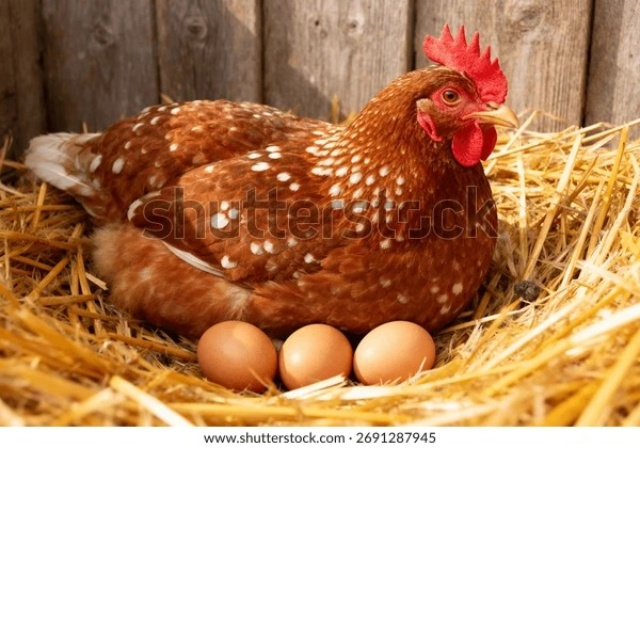trung_ga: (192, 317, 278, 393), (275, 320, 352, 394), (351, 319, 437, 384)
